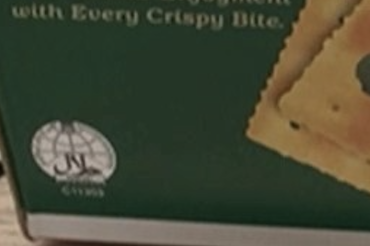halal: (52, 148, 106, 180)
